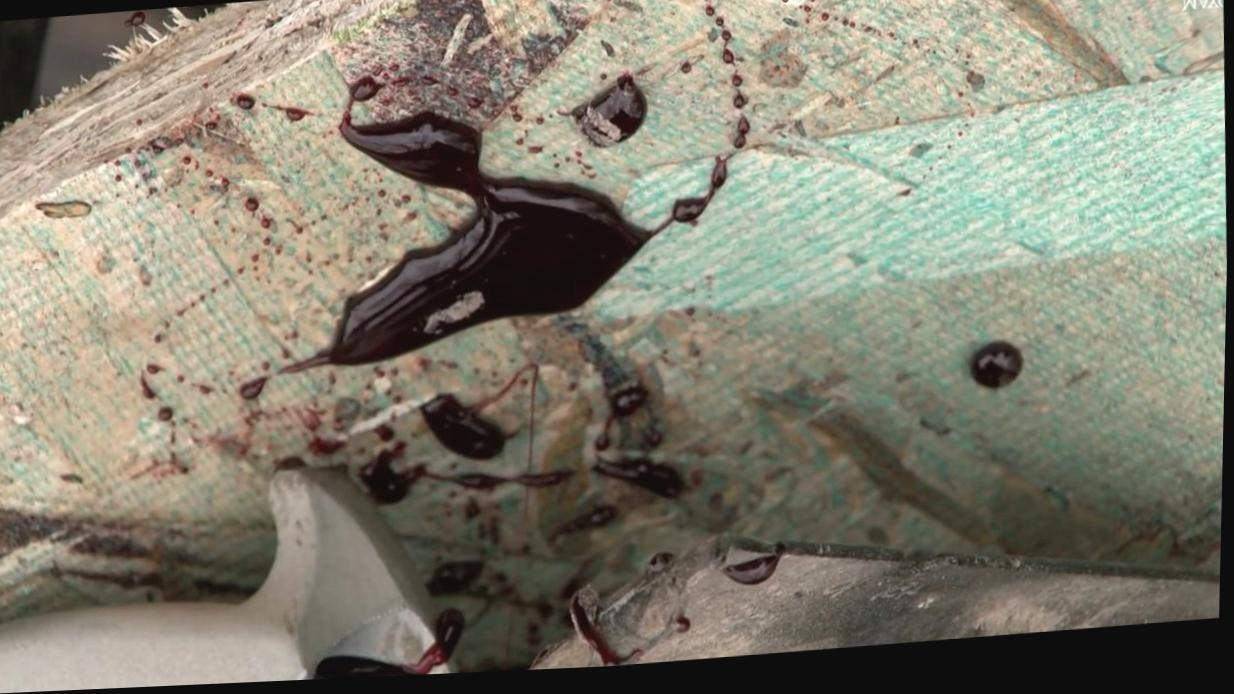Fire: (280, 81, 732, 378), (115, 147, 353, 474), (533, 544, 844, 675), (428, 510, 569, 678), (360, 449, 575, 510), (594, 391, 687, 507), (420, 370, 533, 465), (317, 615, 467, 682), (294, 395, 438, 461), (699, 0, 749, 119), (372, 68, 460, 120), (550, 513, 620, 552), (974, 353, 1026, 400), (511, 109, 544, 131), (273, 107, 313, 125), (239, 380, 270, 403), (734, 121, 752, 157), (122, 11, 145, 31), (233, 96, 256, 113), (243, 383, 266, 400), (246, 414, 268, 431), (491, 82, 505, 103), (516, 133, 530, 151), (468, 102, 481, 114), (528, 150, 545, 159), (507, 98, 516, 102), (553, 158, 557, 165)
